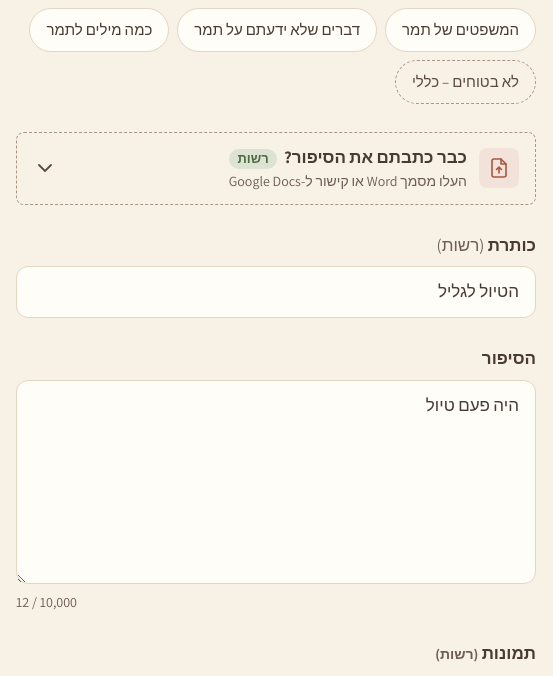
Test: editing a story › saves changed text
(page scrolled)
Replace the text in the field showing "הטיול לגליל" with "טיול אחר" at (276, 292), box left=16, top=266, right=536, bottom=318
(page scrolled)
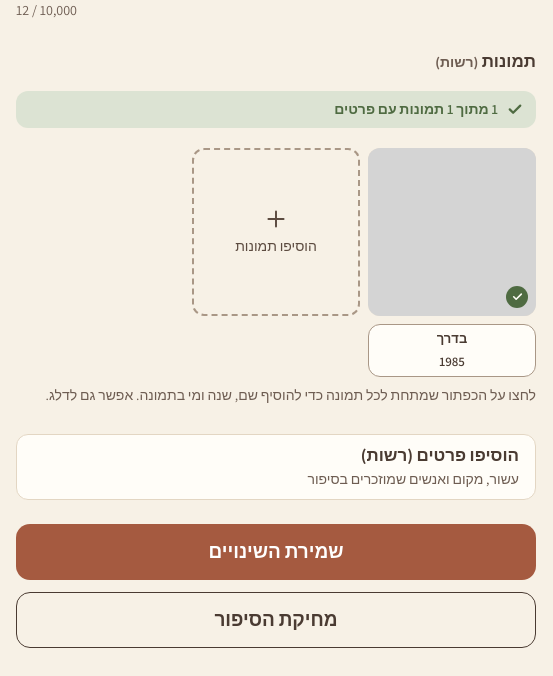
Click the button "שמירת השינויים" at (276, 552), box left=16, top=524, right=536, bottom=580
(page scrolled)
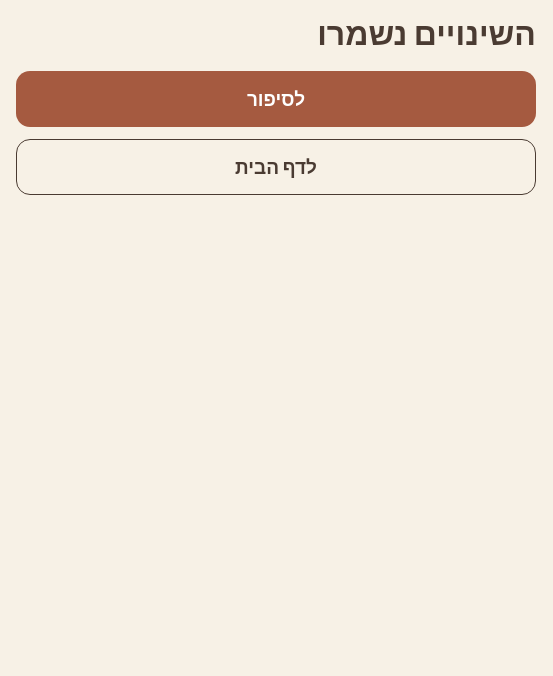
Expected: the heading "השינויים נשמרו" is shown, left=317, top=12, right=536, bottom=54
